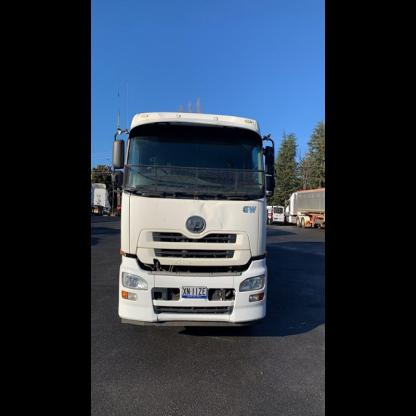dump_truck: (107, 95, 284, 343)
